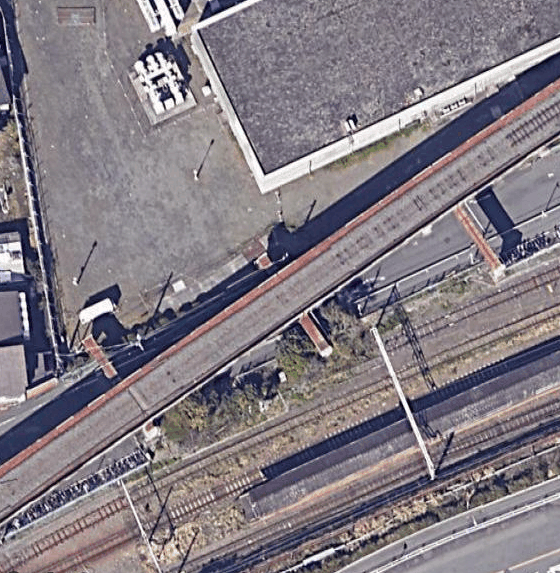flatroof: (189, 0, 559, 187)
